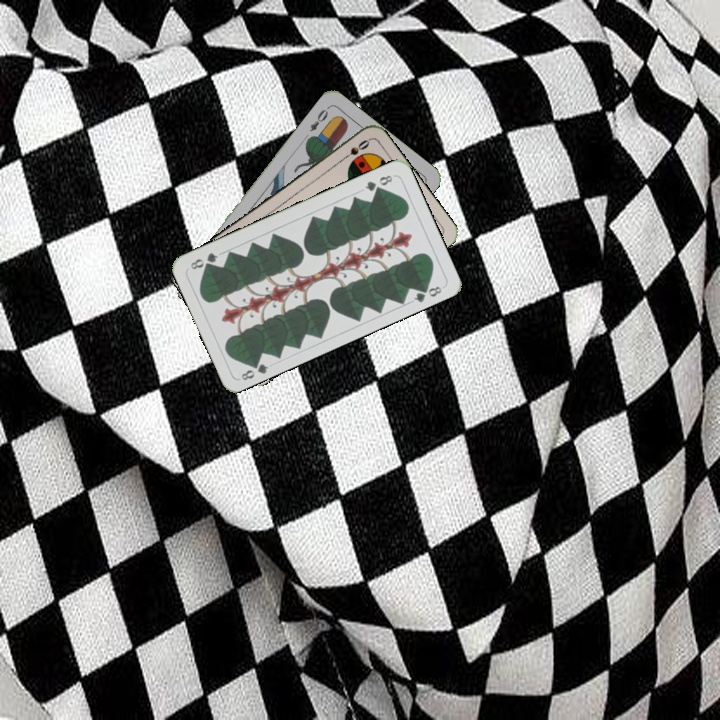EO: (306, 103, 332, 134)
G8: (237, 356, 271, 383), (361, 171, 395, 194)
SO: (336, 135, 372, 164)
